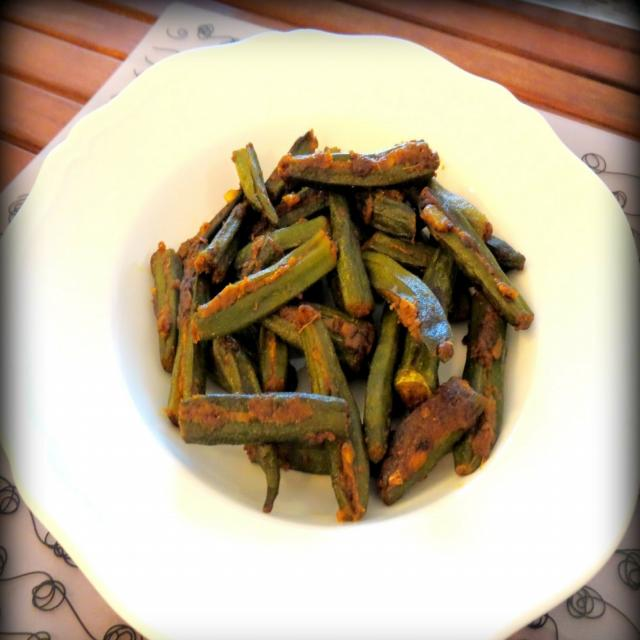BhindiMasala: (150, 130, 534, 521)
